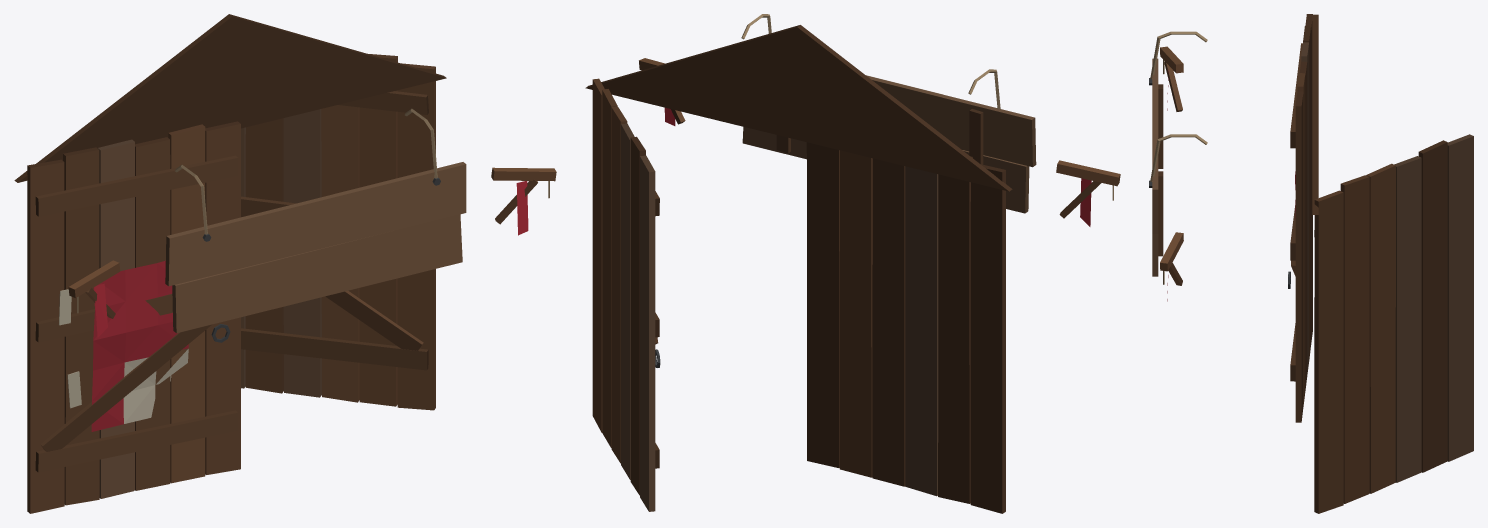
The model's file is tl_env_shrine_door_v01.glb.
3 renders of one model, left to right at view 1: azimuth 30°, elevation 25°; view 2: azimuth 150°, elevation 25°; view 3: azimuth 270°, elevation 25°, orthographic. The views are drawn at different scales.
Parts seen in each view (by area): view 1: tl_env_shrine_door_v01; view 2: tl_env_shrine_door_v01; view 3: tl_env_shrine_door_v01.
Boxes of the visible parts, left/top/right/bottom form: tl_env_shrine_door_v01: left=14, top=14, right=556, bottom=513; tl_env_shrine_door_v01: left=585, top=14, right=1120, bottom=513; tl_env_shrine_door_v01: left=1149, top=14, right=1473, bottom=513.
Size of the model in its own units: 4.19 by 3.67 by 2.65.
